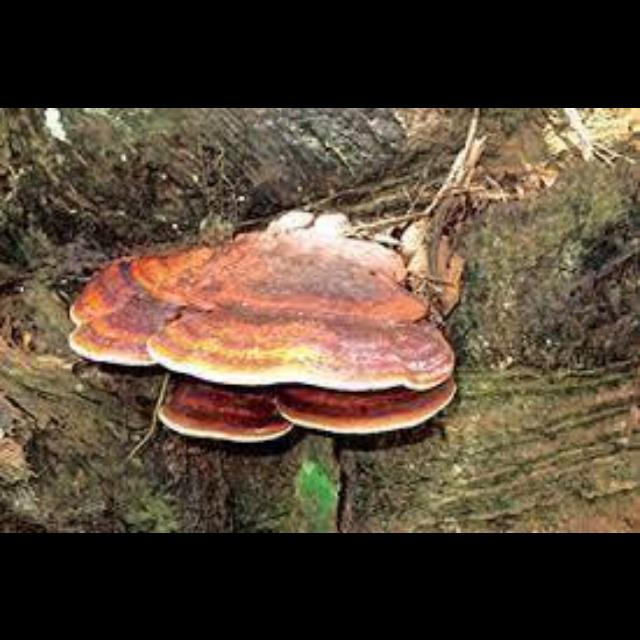ganoderma: (68, 208, 465, 396), (278, 377, 461, 437), (157, 385, 296, 445)
